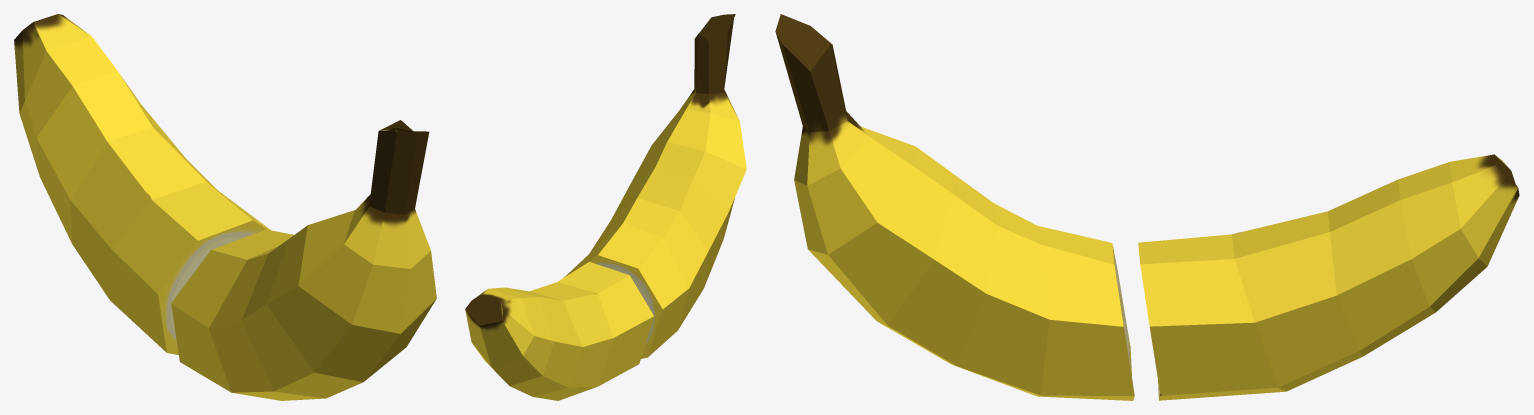
File: BananaSliced 1.fbx
The picture shows the model from 3 angles, left to right: view 1: azimuth 30°, elevation 25°; view 2: azimuth 150°, elevation 25°; view 3: azimuth 270°, elevation 25°; orthographic projection. The views are drawn at different scales.
Parts seen in each view (by area): view 1: Top, Bottom; view 2: Top, Bottom; view 3: Top, Bottom.
Part boxes in pixels (x1=…): Top: x1=171, y1=120, x2=436, y2=400; Bottom: x1=14, y1=14, x2=270, y2=355; Top: x1=564, y1=14, x2=746, y2=358; Bottom: x1=465, y1=262, x2=654, y2=400; Top: x1=775, y1=14, x2=1134, y2=400; Bottom: x1=1138, y1=154, x2=1519, y2=400.
Size of the model in its own units: 73.1 by 189 by 333.
